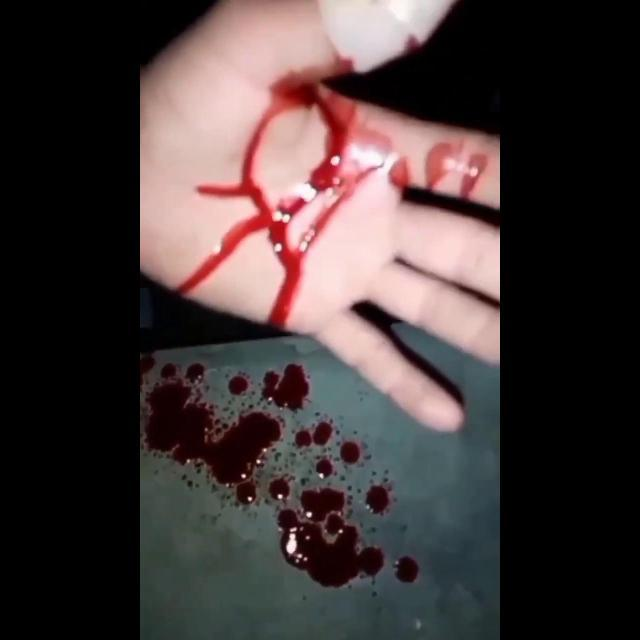blood: (177, 70, 410, 328), (140, 356, 396, 589), (426, 142, 487, 199), (396, 558, 418, 584)
